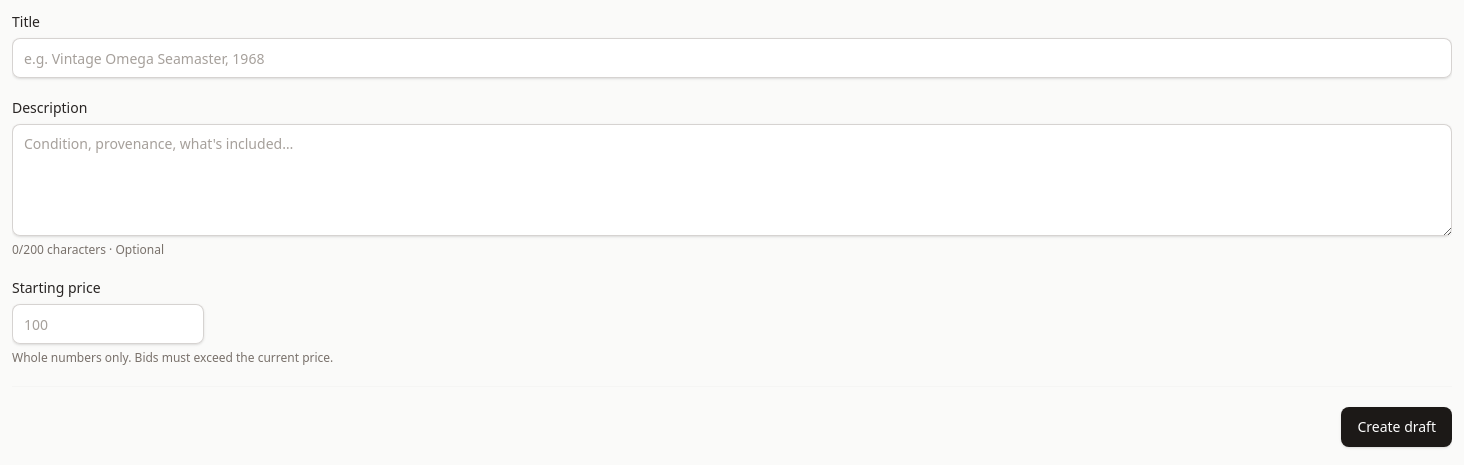
Test: ProductForm › submits typed values once and disables the button while saving
The width and height of the screenshot is (1464, 465).
Step 1. Type "  Desk lamp " into the field labelled "Title" → (732, 58), box [12,38,1452,78]
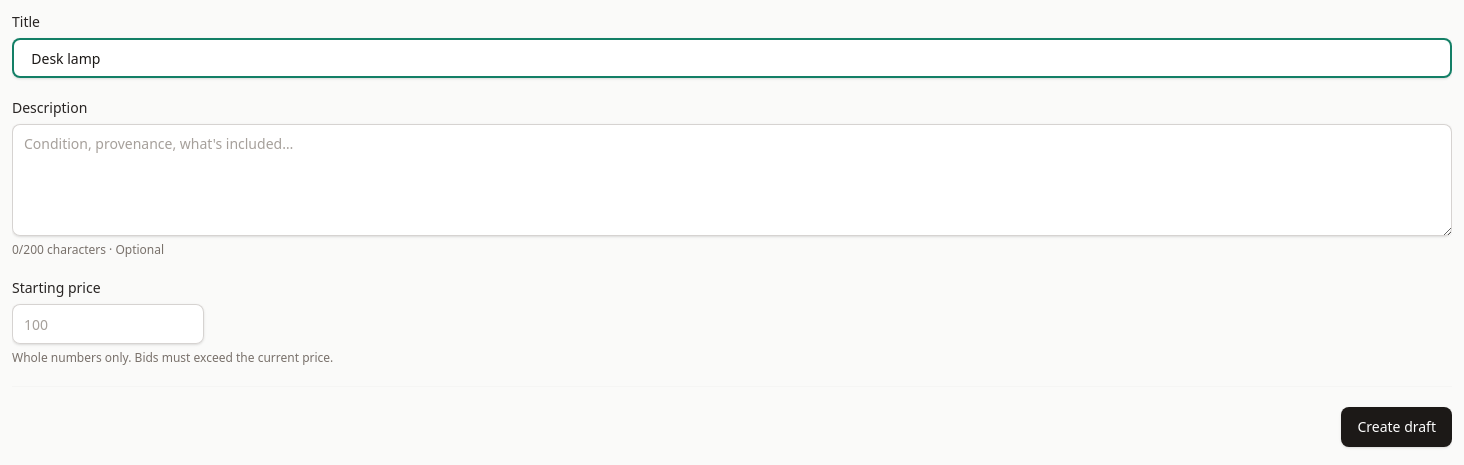
Step 2. Type "Brass, working" into the text box labelled "Description" → (732, 180), box [12,124,1452,236]
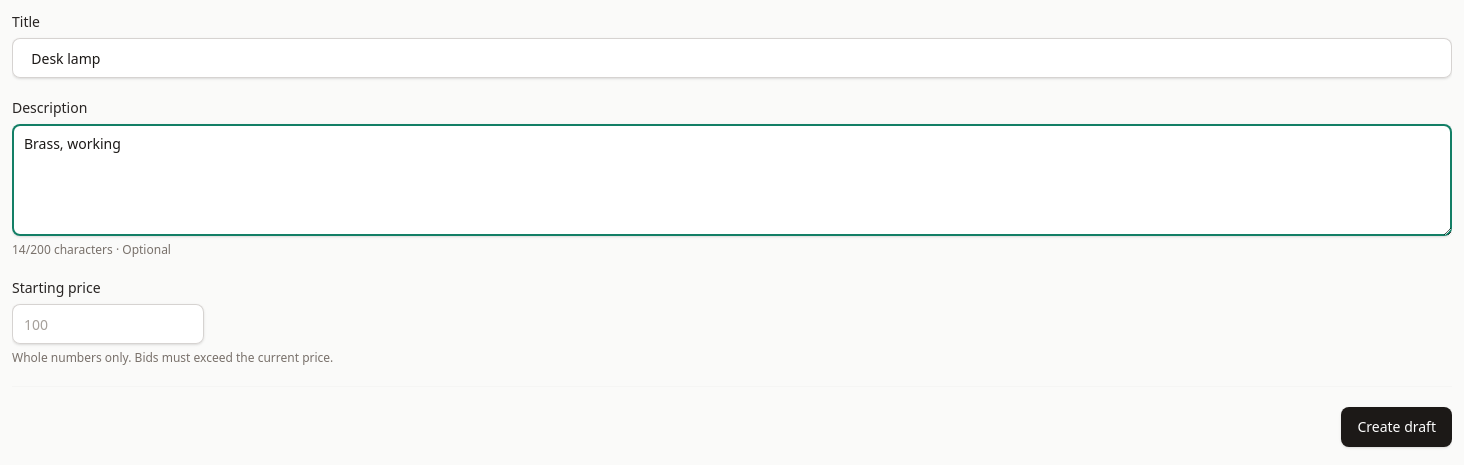
Step 3. Type "45" into the number field labelled "Starting price" → (108, 324), box [12,304,204,344]
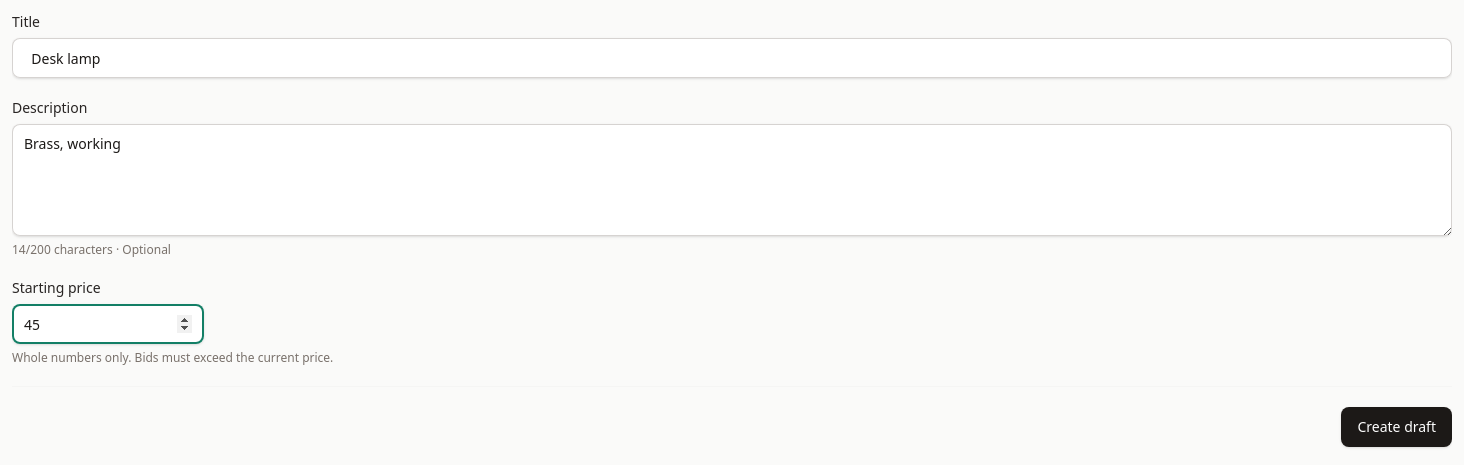
Step 4. Click the button "Create draft" → (1397, 427), box [1342,407,1452,447]
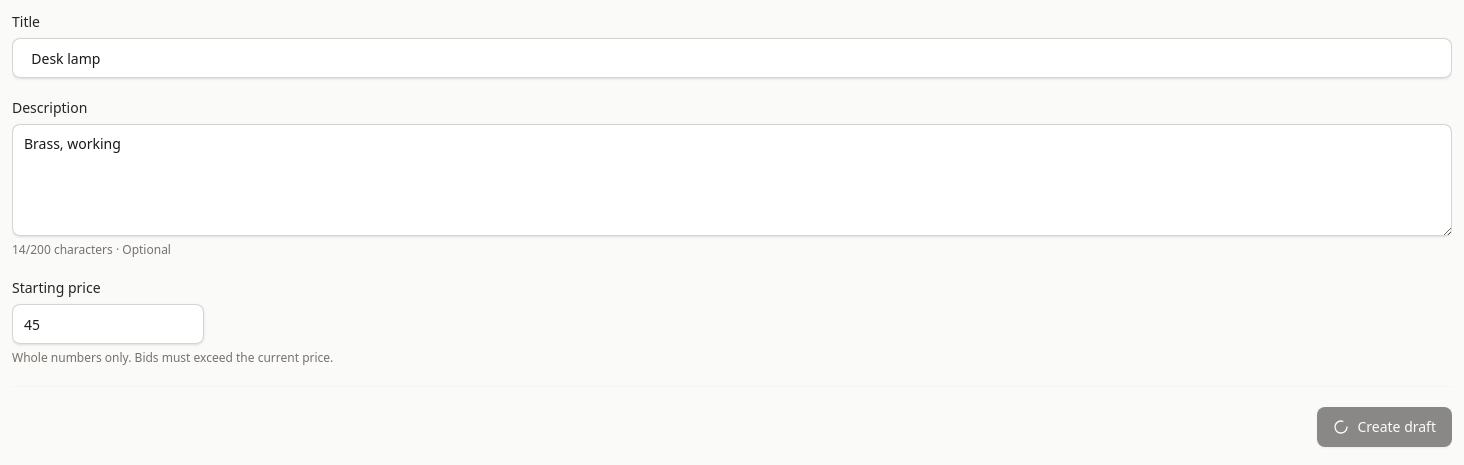
Check: the button "Create draft" is disabled
Step 5. Click the button "Create draft" → (1385, 427), box [1318,407,1452,447]
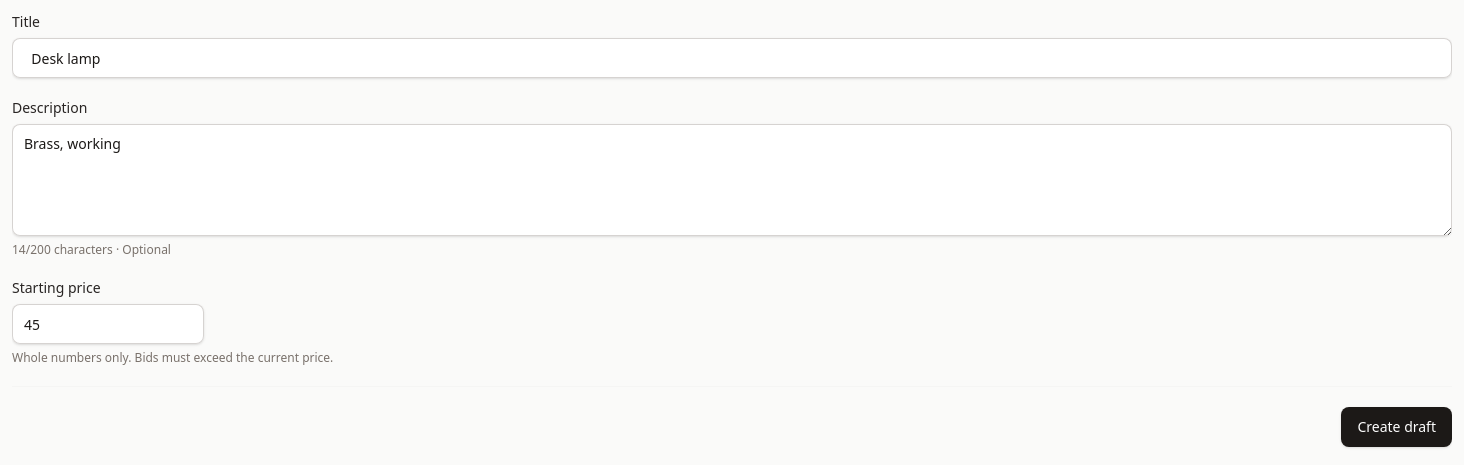
Check: the button "Create draft" is enabled, box [1342,407,1452,447]
